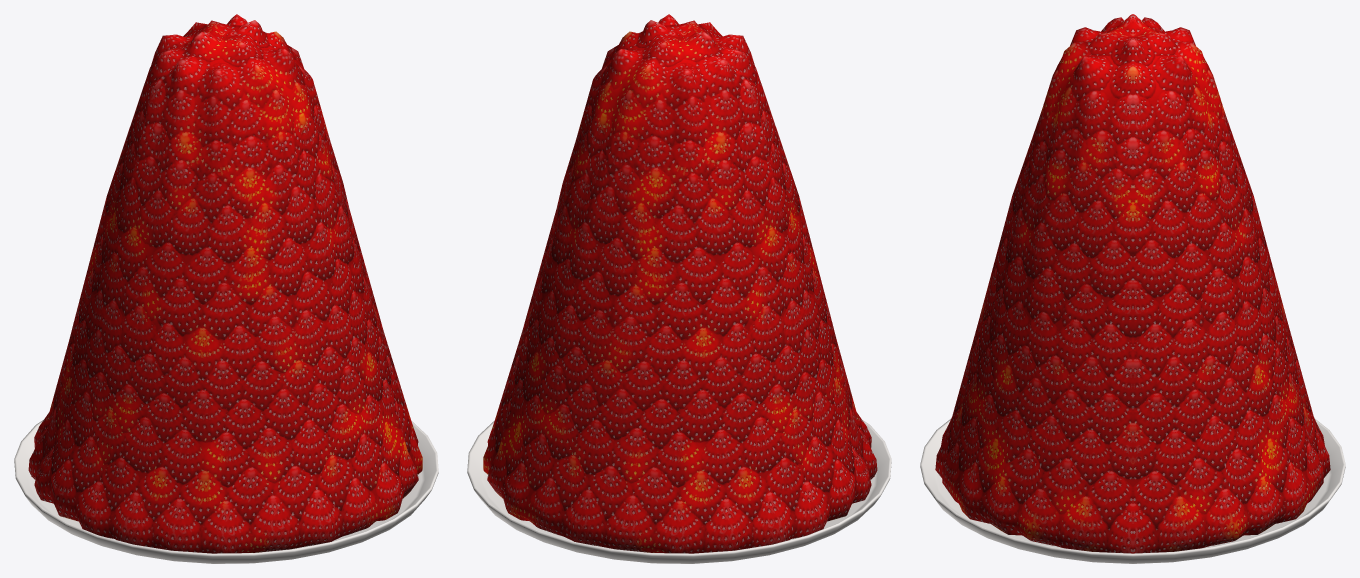
File: BuffetBerries02_1.FBX
3 views of the same model, side by side, from view 1: azimuth 30°, elevation 25°; view 2: azimuth 150°, elevation 25°; view 3: azimuth 270°, elevation 25° (orthographic).
Visible parts, largest first — view 1: BuffetBerries02_1; view 2: BuffetBerries02_1; view 3: BuffetBerries02_1.
Boxes of the visible parts, x1=… form: BuffetBerries02_1: x1=14, y1=14, x2=438, y2=563; BuffetBerries02_1: x1=467, y1=14, x2=891, y2=563; BuffetBerries02_1: x1=920, y1=14, x2=1345, y2=563.
Size of what is drawn, in the model's own units: 0.5917 by 0.6946 by 0.5917.
